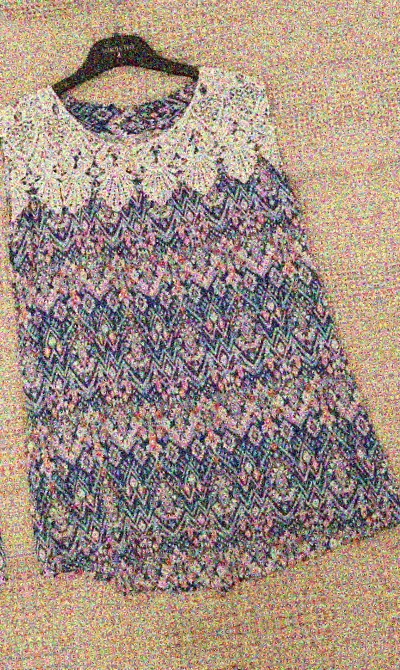Dress: (0, 35, 400, 617), (336, 0, 400, 559), (81, 639, 400, 670)
